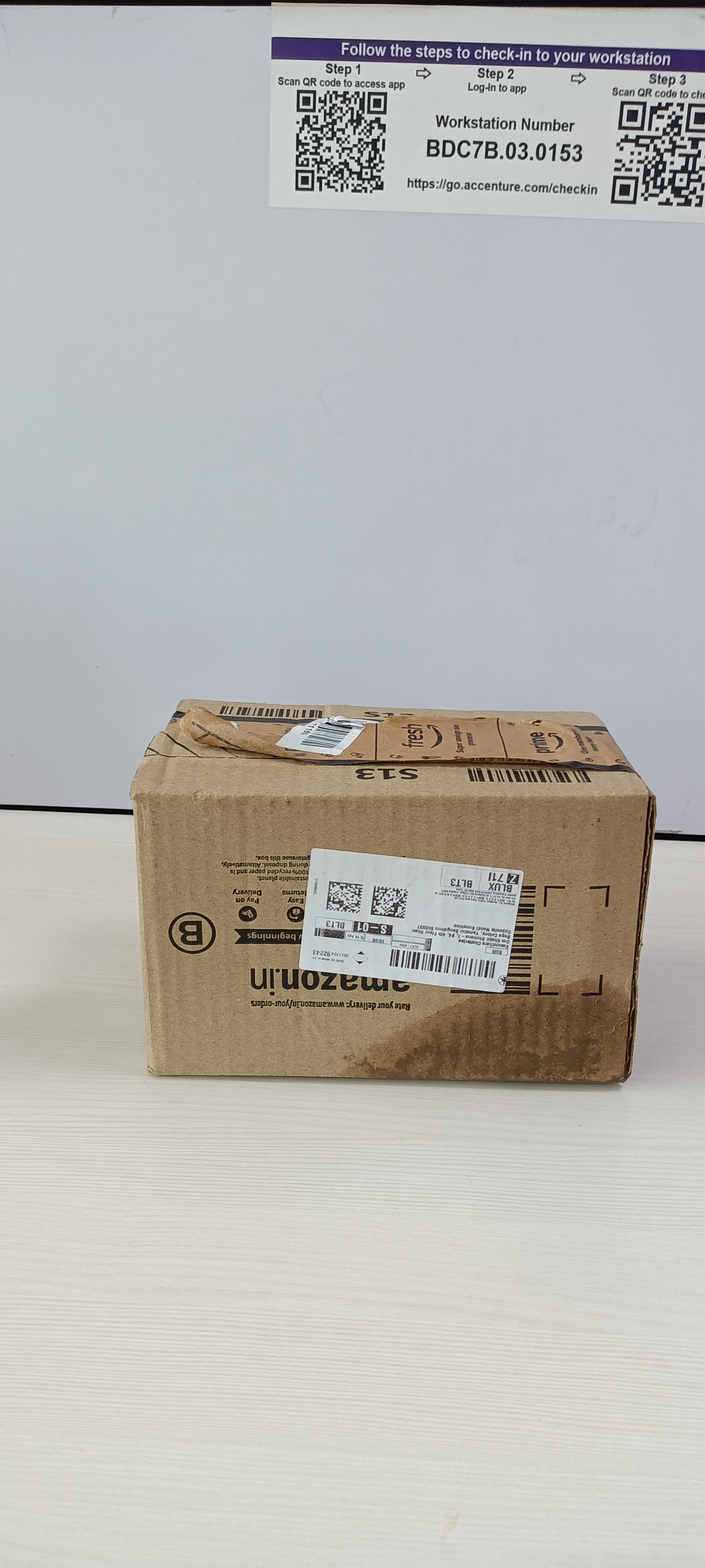box: (127, 694, 659, 1091)
normal_hole: (332, 979, 638, 1083)
